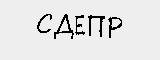Д: (55, 14, 75, 39)
Е: (74, 13, 86, 37)
П: (88, 15, 105, 39)
Р: (107, 15, 123, 40)
С: (36, 12, 53, 34)
